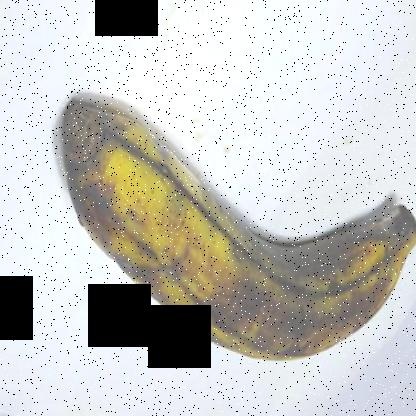overripe: (55, 97, 416, 380)
